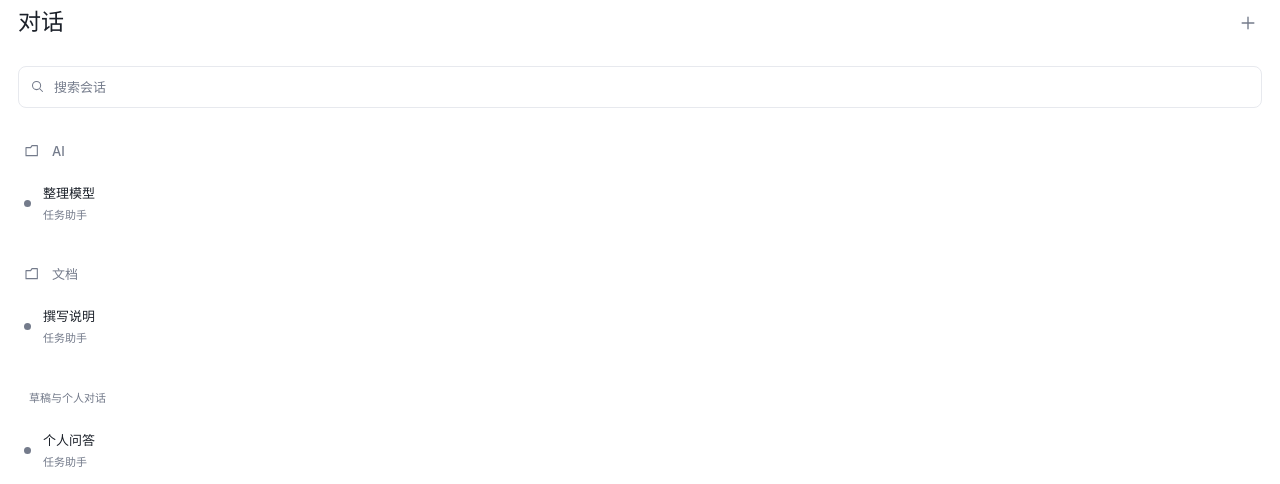
Test case: nests tasks under their owning projects and searches without losing the hierarchy
Check: the text "整理模型" is shown, box [43,185,95,201]
Click the button "AI": (32, 151) [12,125,1268,172]
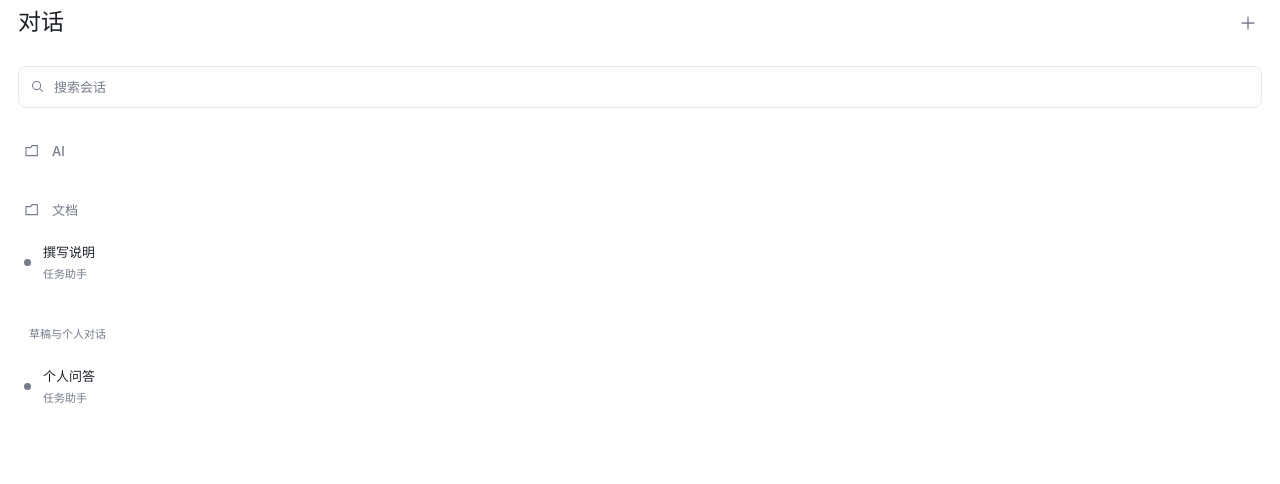
Check: the button "整理模型" is gone
In the field labelled "搜索会话": (651, 87) [52,76,1250,98], type "整理模型"
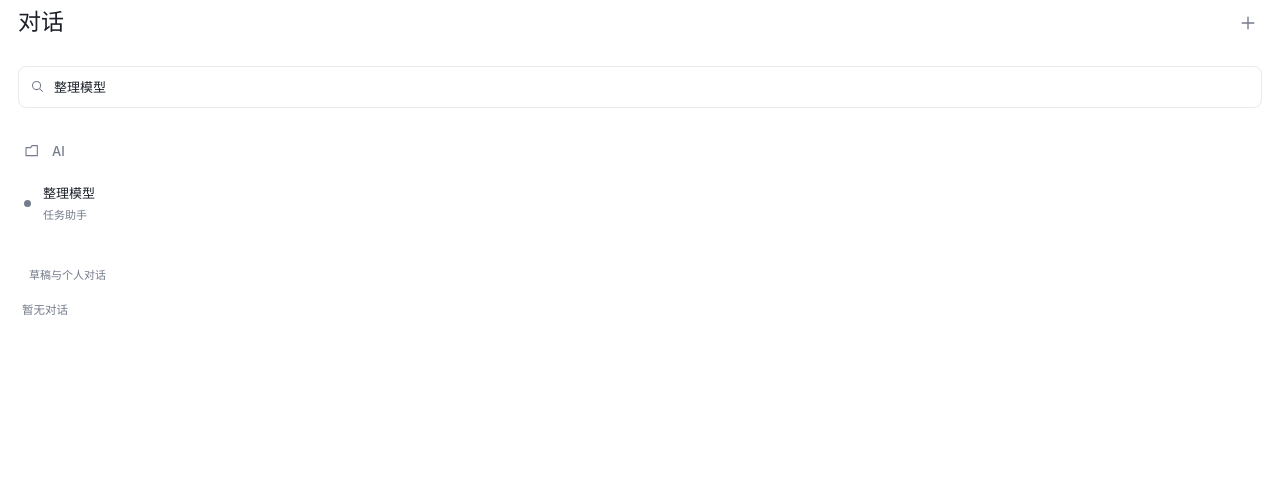
Check: the text "整理模型" is shown, box [43,185,95,201]
Check: the element "文档项目会话" is gone
